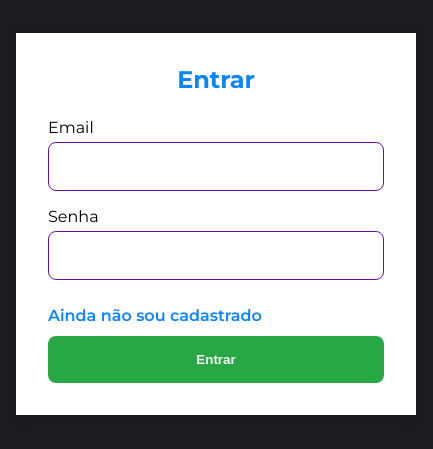
Test: LoginPage Component › deve mostrar mensagem de erro se login falhar
This screenshot has width=433, height=449.
Type "teste@gmail.com" into the field named "email" at coordinates (216, 167), box [48,142,384,191]
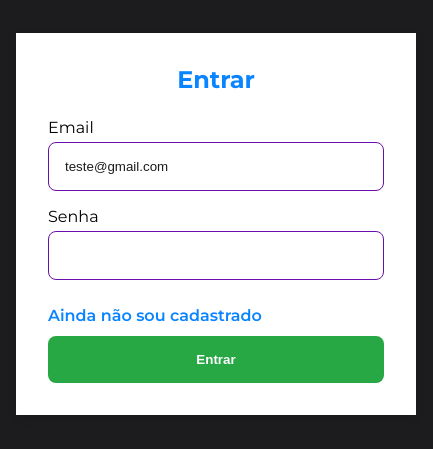
Type "1234" into the password field named "senha" at coordinates (216, 256), box [48,231,384,280]
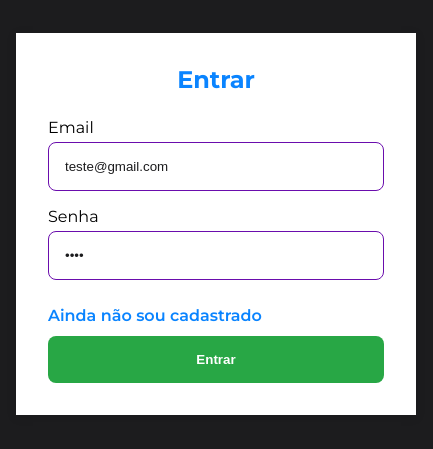
Click the button "Entrar" at coordinates (216, 360), box [48,336,384,383]
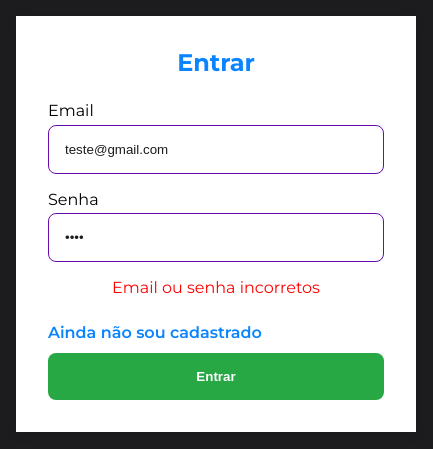
expect the text "Email ou senha incorretos" is shown: met, box [112,278,320,298]
